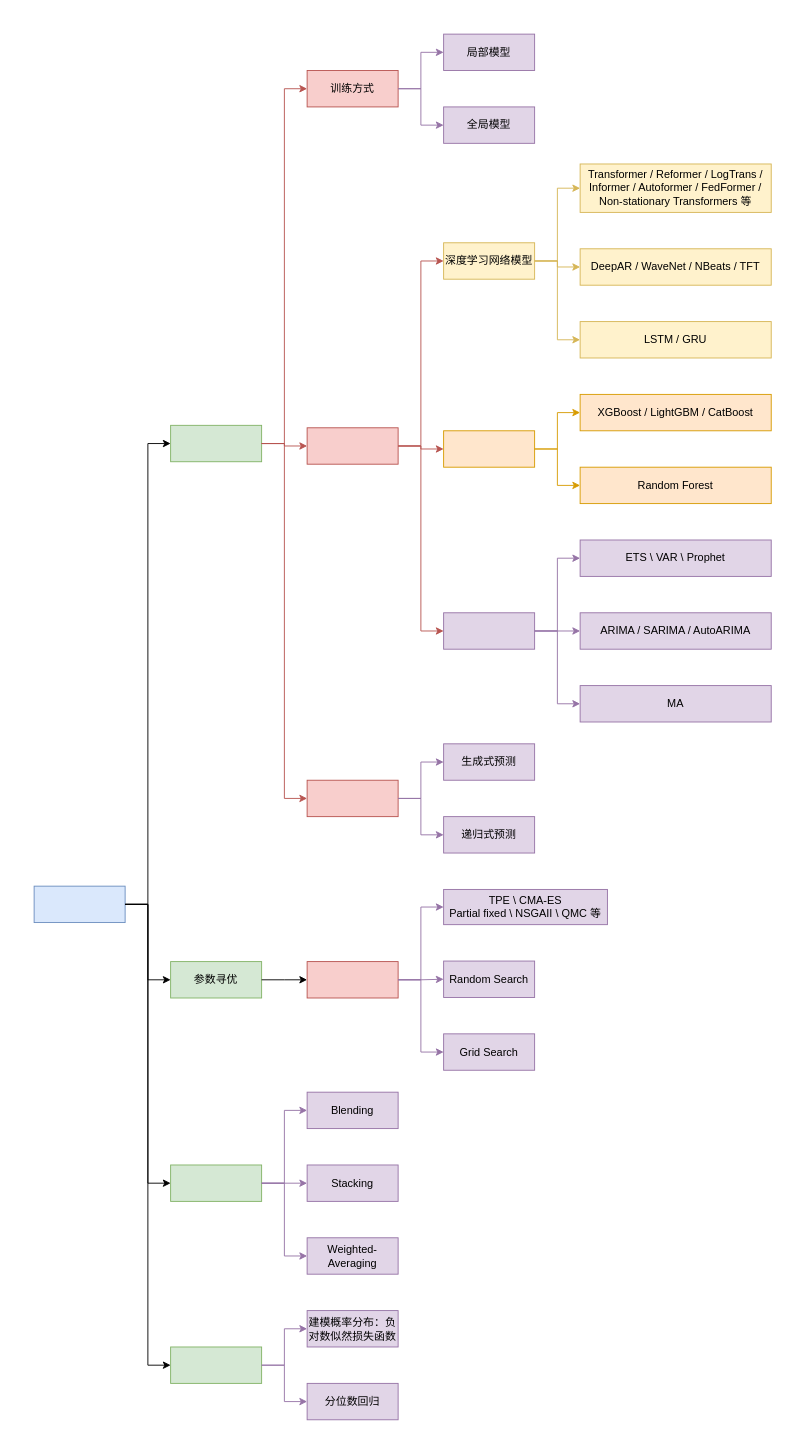
This 804x1453 diagram has some shape labels left out. Here are the shapes that lost their labels. From the top down, the centre of each, then its label:
At point (216, 443): "时序预测".
At point (352, 445): "模型种类".
At point (489, 448): "机器学习树模型".
At point (489, 630): "统计模型".
At point (352, 798): "预测方式".
At point (79, 904): "时间序列模型".
At point (352, 979): "optuna".
At point (216, 1182): "模型融合".
At point (216, 1364): "置信区间输出".
